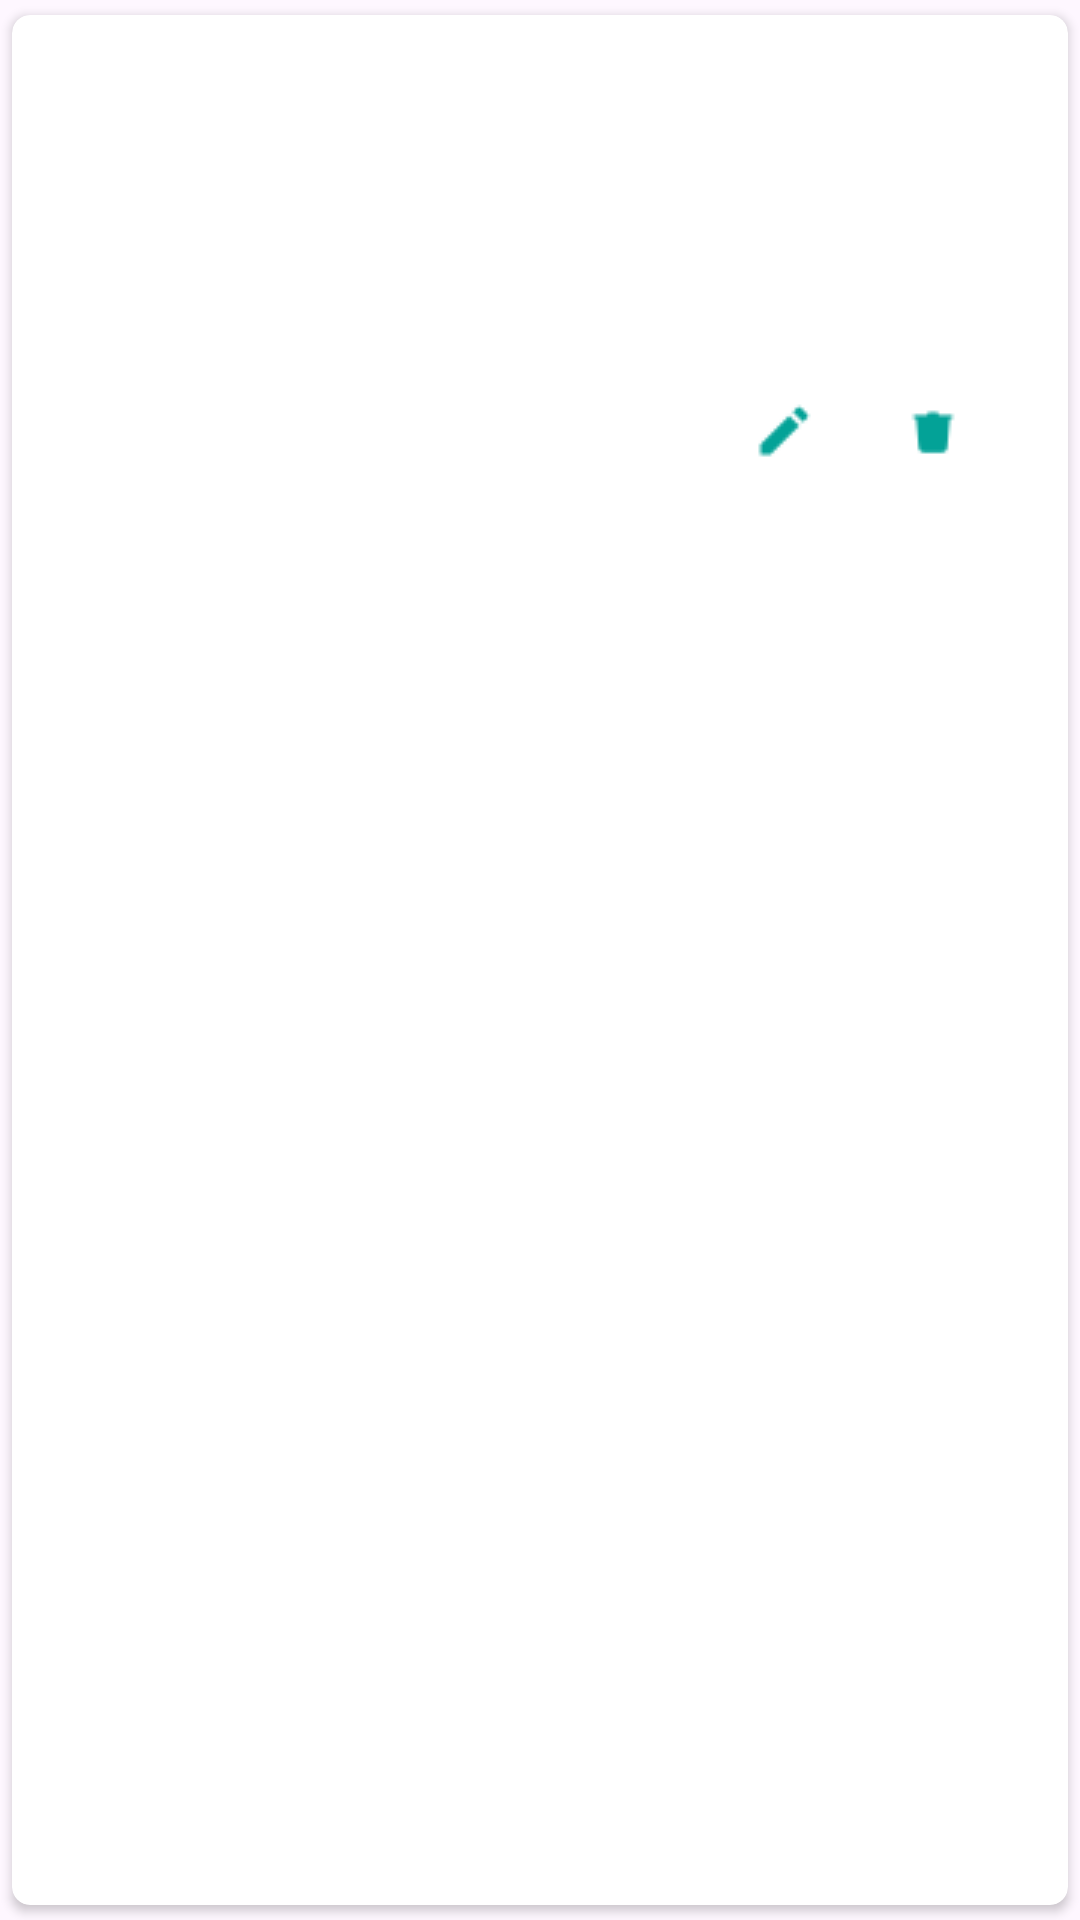

Icon bounding boxes for this 1080 x 1920 phone screenshot, format (x1, y1, x2, y2):
delete: (912, 410, 954, 454)
edit: (758, 405, 810, 457)
